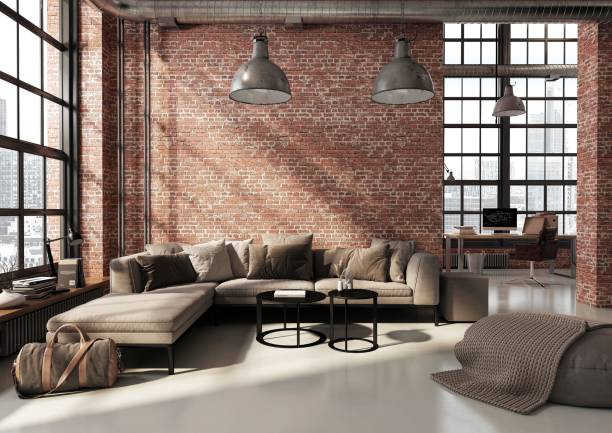sofa: (42, 233, 443, 373)
table: (252, 285, 328, 350), (328, 285, 380, 355)
